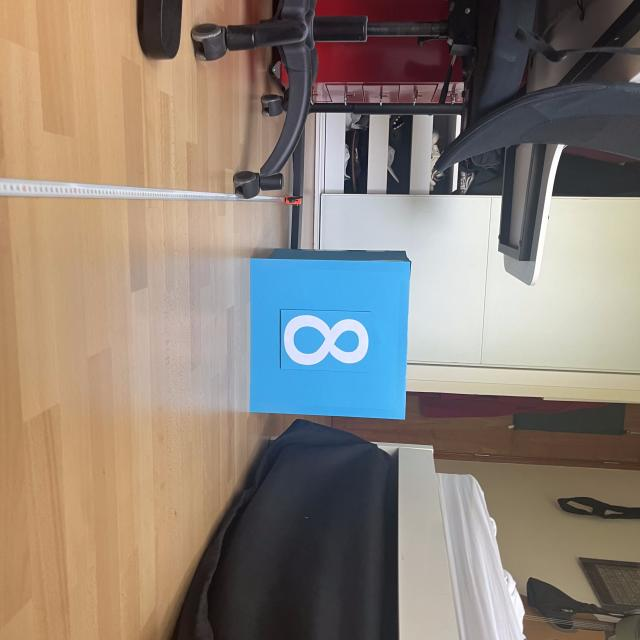box: (244, 245, 413, 421)
